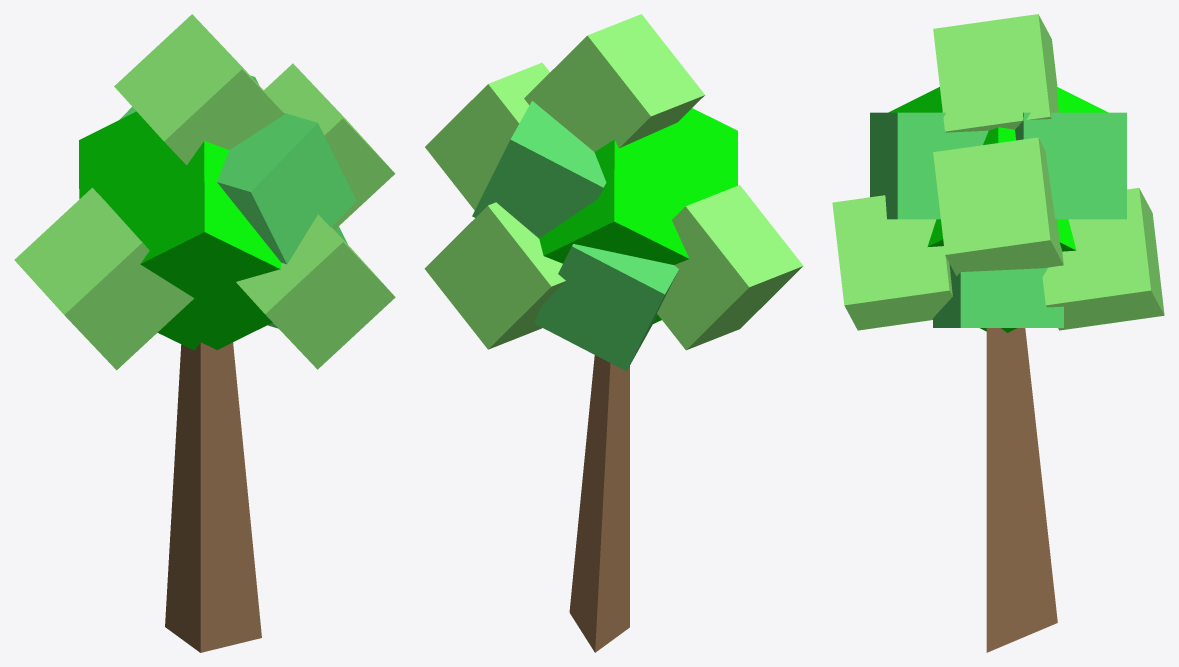
Rendered from tree1.glb.
3 renders of one model, left to right at view 1: azimuth 30°, elevation 25°; view 2: azimuth 150°, elevation 25°; view 3: azimuth 270°, elevation 25°, orthographic.
Visible parts, largest first — view 1: main_foliage, tree_trunk, secondary_foliage_corner.004, secondary_foliage_corner.002, secondary_foliage_center.002, secondary_foliage_corner, secondary_foliage_corner.001; view 2: main_foliage, secondary_foliage_corner.002, secondary_foliage_corner.004, tree_trunk, secondary_foliage_corner.003, secondary_foliage_center, secondary_foliage_center.003, secondary_foliage_corner.001; view 3: tree_trunk, secondary_foliage_corner.001, secondary_foliage_corner.002, secondary_foliage_corner, secondary_foliage_corner.003, secondary_foliage_center.003, secondary_foliage_center.002, secondary_foliage_center.001, main_foliage.
Part boxes in pixels (x1,y1,x2,y2): main_foliage: (79,111,281,350); tree_trunk: (165,342,261,652); secondary_foliage_corner.004: (14,187,194,370); secondary_foliage_corner.002: (114,14,284,165); secondary_foliage_center.002: (217,113,356,264); secondary_foliage_corner: (236,214,395,369); secondary_foliage_corner.001: (264,63,395,229); main_foliage: (539,108,737,323); secondary_foliage_corner.002: (524,14,704,151); secondary_foliage_corner.004: (657,185,803,350); tree_trunk: (569,355,629,652); secondary_foliage_corner.003: (424,202,565,349); secondary_foliage_center: (533,244,678,371); secondary_foliage_center.003: (472,101,606,238); secondary_foliage_corner.001: (425,62,549,210); tree_trunk: (986,328,1057,652); secondary_foliage_corner.001: (933,137,1063,276); secondary_foliage_corner.002: (933,14,1058,132); secondary_foliage_corner: (832,195,952,330); secondary_foliage_corner.003: (1042,188,1164,330); secondary_foliage_center.003: (1015,112,1126,219); secondary_foliage_center.002: (870,112,988,219); secondary_foliage_center.001: (933,263,1063,327); main_foliage: (888,86,1108,332).
Bounding box in the file's own units: 10.82 × 19.13 × 9.33.
